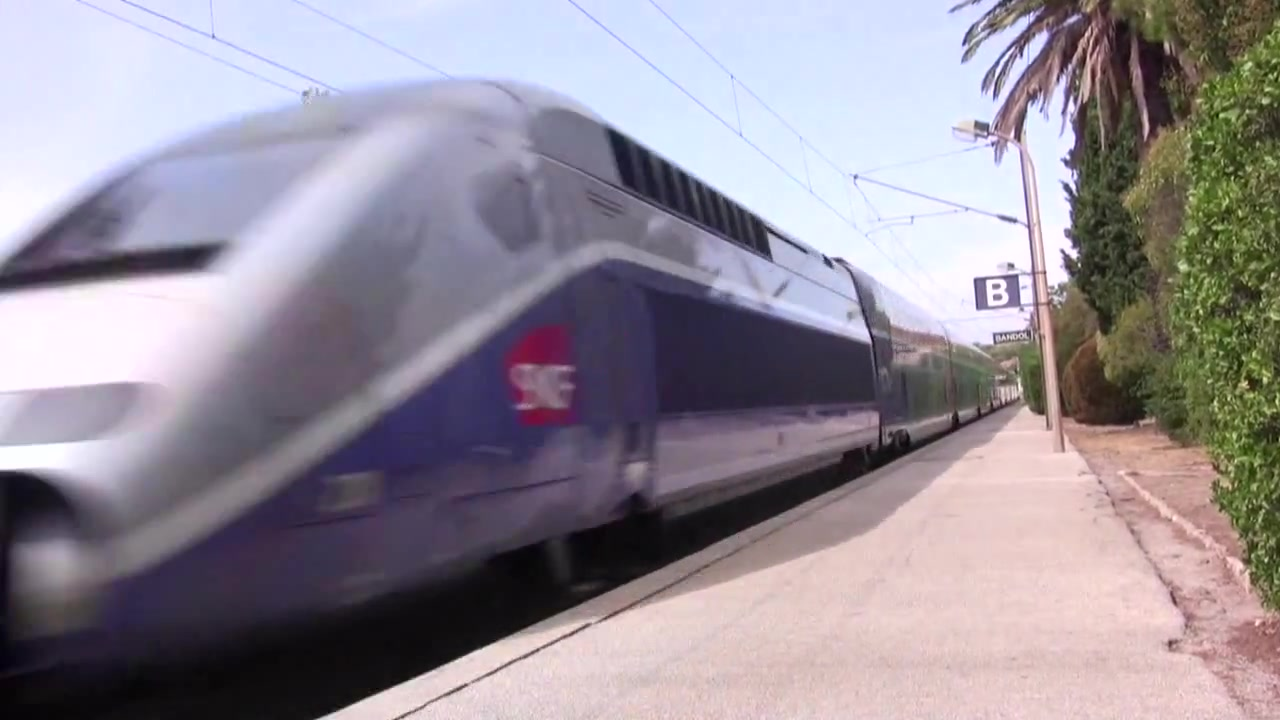train: (1, 73, 1021, 720)
